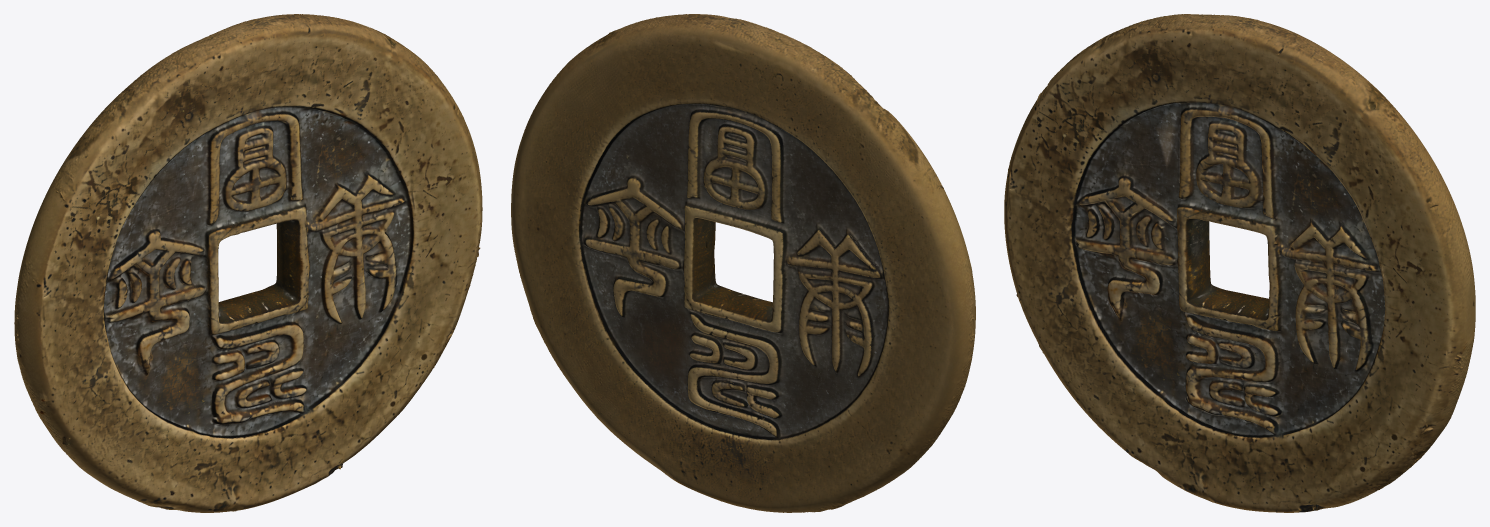
The picture shows the model from 3 angles, left to right: view 1: azimuth 30°, elevation 25°; view 2: azimuth 150°, elevation 25°; view 3: azimuth 330°, elevation 25°; orthographic projection.
Size of the model in its own units: 1.18 by 1.17 by 0.1088.
Materials: 1 (1 with a texture image).
